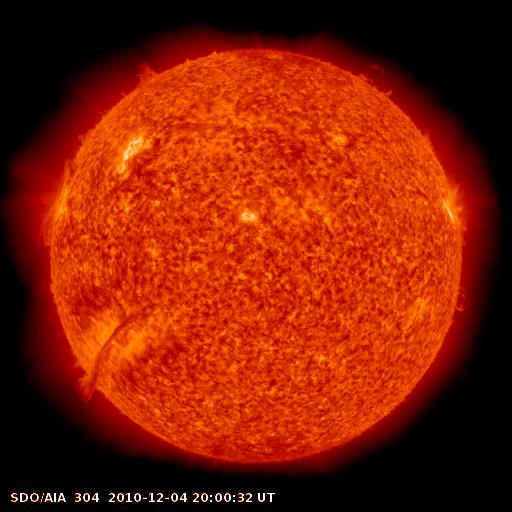prominence: (60, 352, 126, 429), (334, 48, 404, 106), (121, 40, 182, 101), (450, 275, 489, 320)
